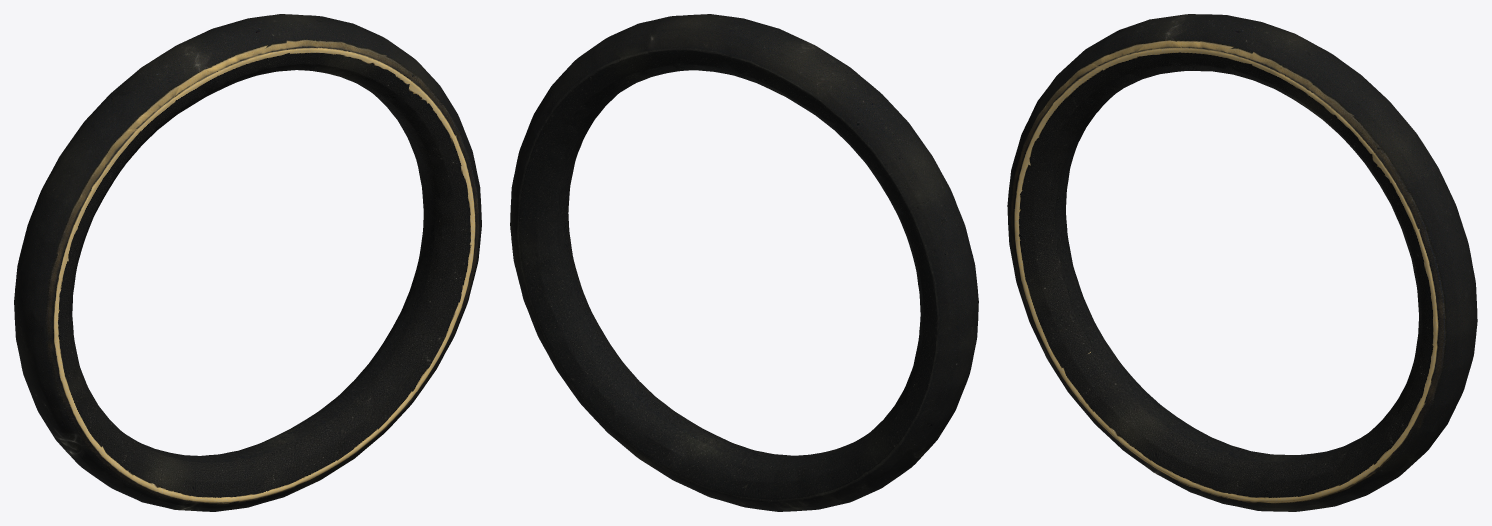
Rendered from ring_onyx_game.glb.
3 views of the same model, side by side, from view 1: azimuth 30°, elevation 25°; view 2: azimuth 150°, elevation 25°; view 3: azimuth 330°, elevation 25° (orthographic).
Parts seen in each view (by area): view 1: Mesh_0; view 2: Mesh_0; view 3: Mesh_0.
Part boxes in pixels (x1,y1,x2,y2): Mesh_0: (14,14,481,511); Mesh_0: (510,14,978,511); Mesh_0: (1007,14,1477,511).
Bounding box in the file's own units: 2.22 × 2.22 × 0.2876.
Materials: 1 (1 with a texture image).
